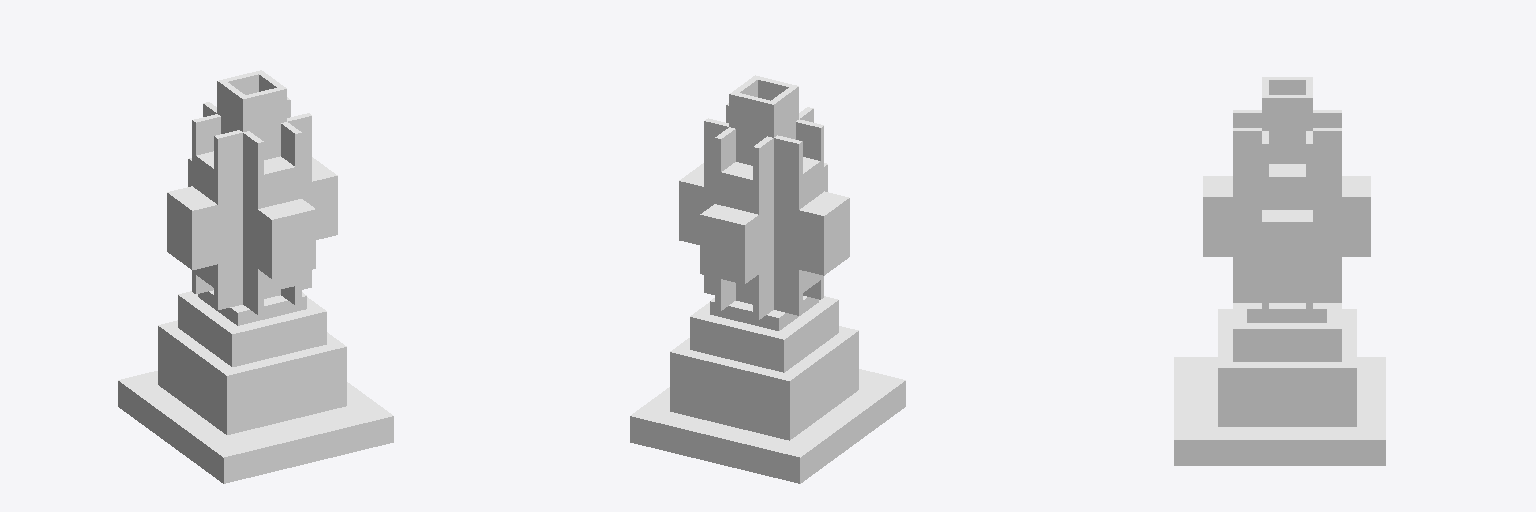
The model's file is NormalTower0.obj.
The picture shows the model from 3 angles: view 1: azimuth 30°, elevation 25°; view 2: azimuth 150°, elevation 25°; view 3: azimuth 270°, elevation 25°; orthographic projection.
Parts seen in each view (by area): view 1: NormalTower0; view 2: NormalTower0; view 3: NormalTower0.
Boxes of the visible parts, x1=… form: NormalTower0: x1=118, y1=70, x2=393, y2=483; NormalTower0: x1=630, y1=75, x2=905, y2=483; NormalTower0: x1=1174, y1=77, x2=1385, y2=465.
Size of the model in its own units: 27 by 51 by 29.